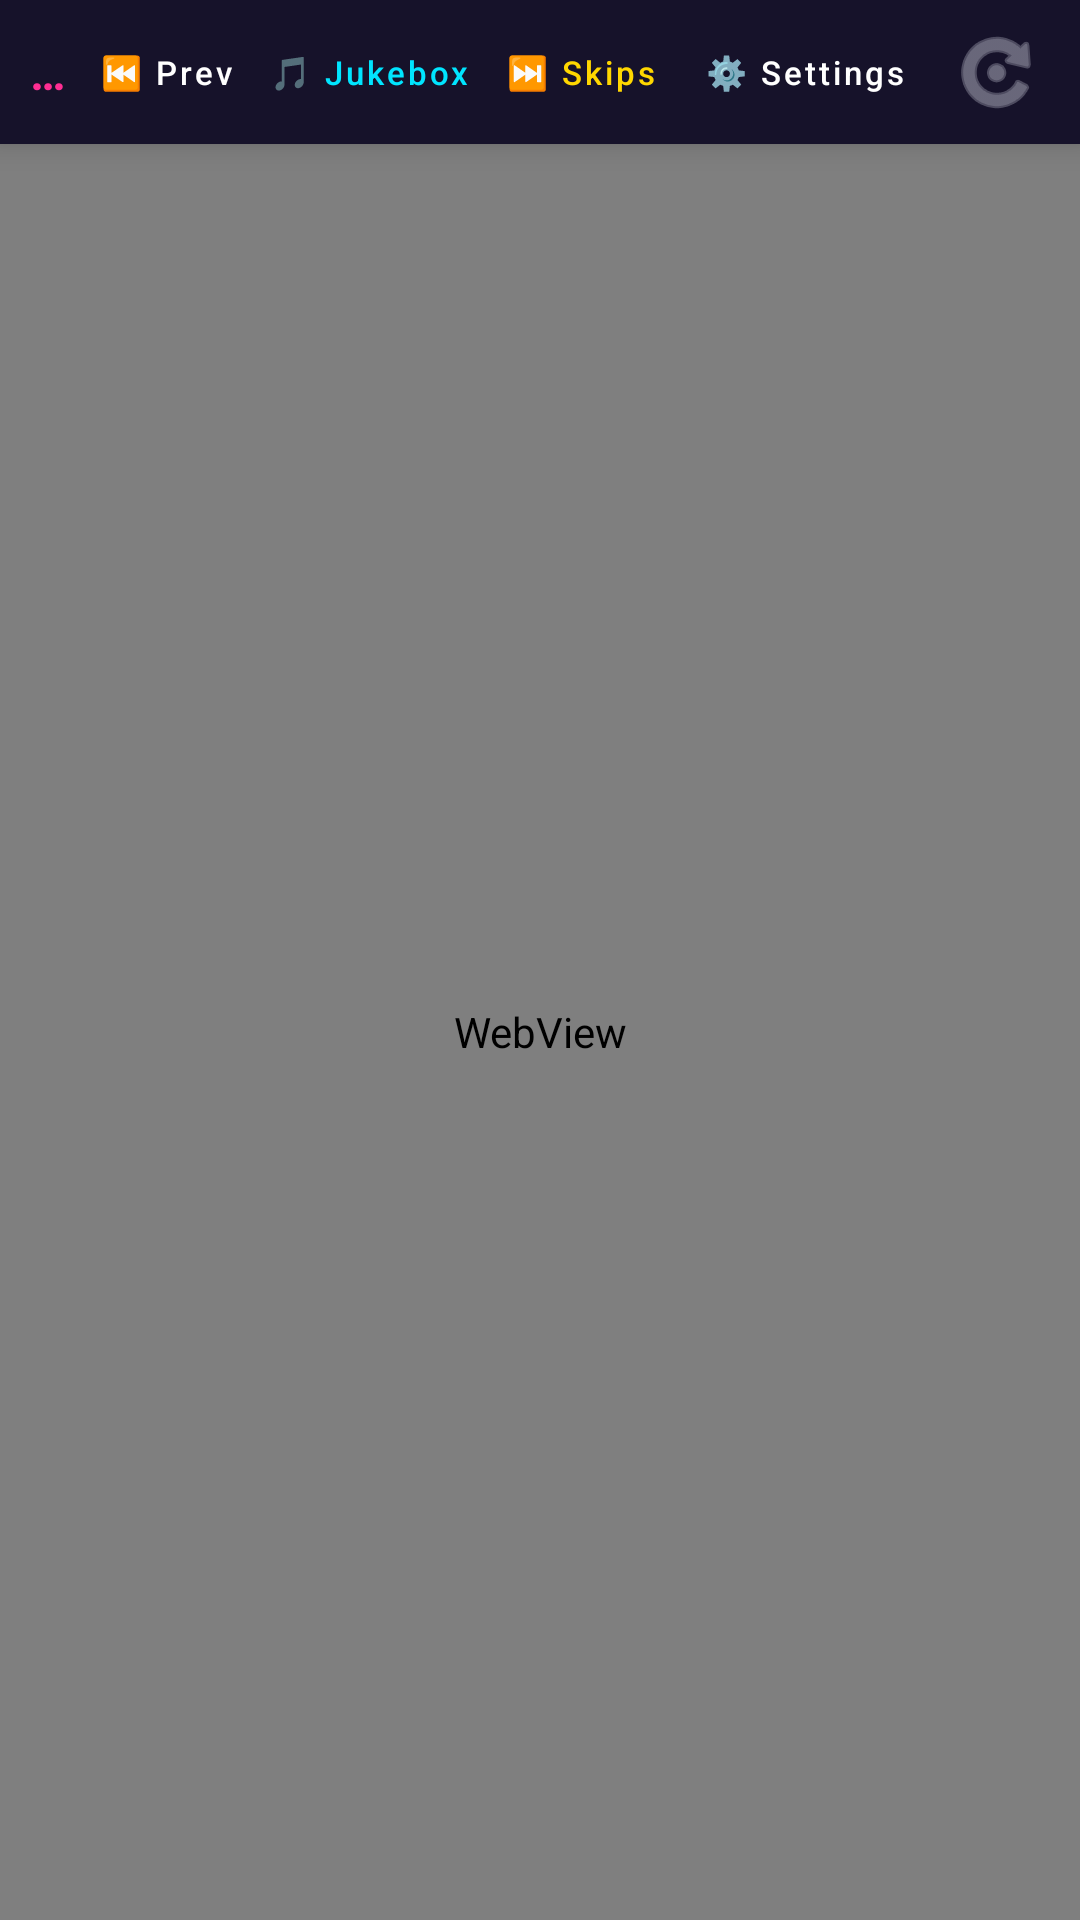

Screen size 1080 × 1920. Icon name, then its box in pixels as (x1, y1, x2, y2):
Reload: (961, 37, 1031, 108)
